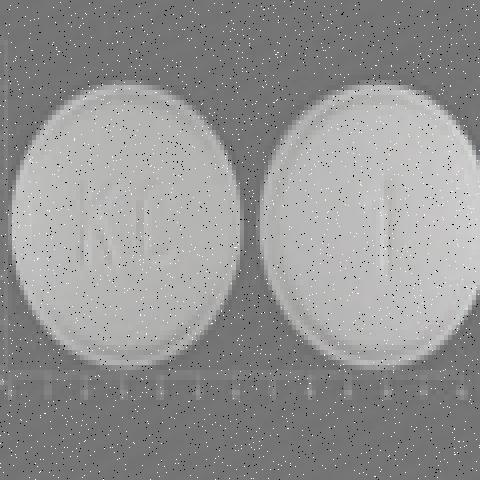Pill: (4, 52, 247, 393), (252, 55, 480, 375)
